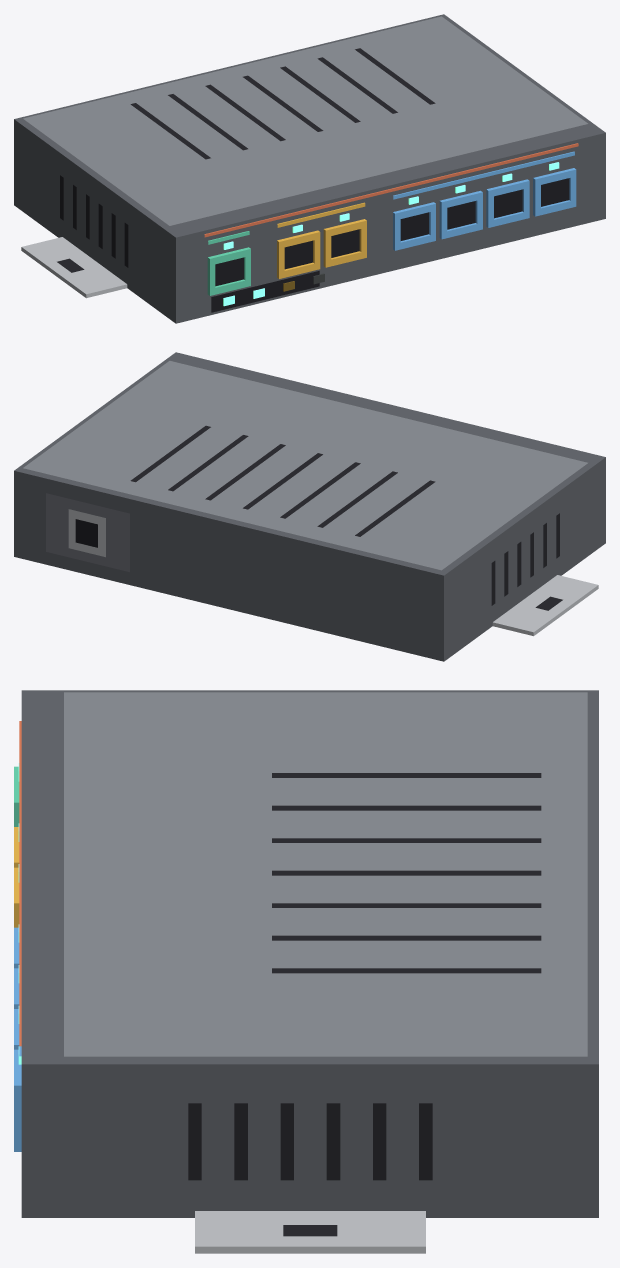
Rendered from fw_compact.glb.
3 renders of one model, top to bottom at view 1: azimuth 30°, elevation 25°; view 2: azimuth 150°, elevation 25°; view 3: azimuth 270°, elevation 25°, orthographic. The views are drawn at different scales.
Parts seen in each view (by area): view 1: Body; view 2: Body; view 3: Body.
Part boxes in pixels (box(x1,y1,x2,y2)): Body: box(14, 14, 605, 323); Body: box(14, 352, 605, 661); Body: box(14, 690, 598, 1253).
Bounding box in the file's own units: 0.274 × 0.0482 × 0.1538.
